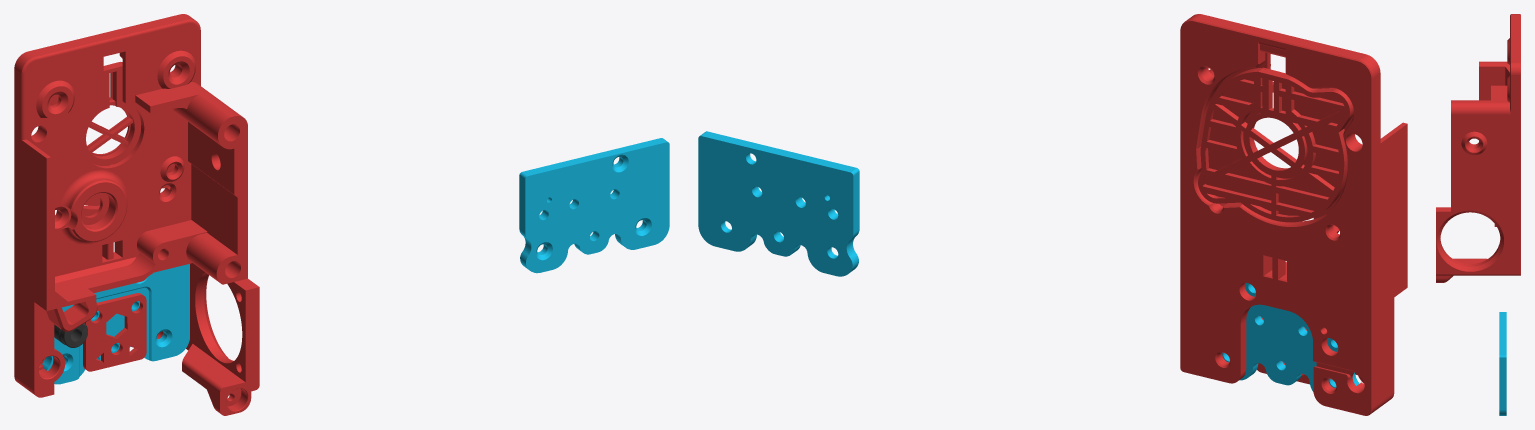
The model's file is Body for h2d right heating assembly.glb.
The picture shows the model from 3 angles, left to right: view 1: azimuth 30°, elevation 25°; view 2: azimuth 150°, elevation 25°; view 3: azimuth 270°, elevation 25°; orthographic projection. The views are drawn at different scales.
Size of the model in its own units: 0.1888 by 0.0984 by 0.034.
